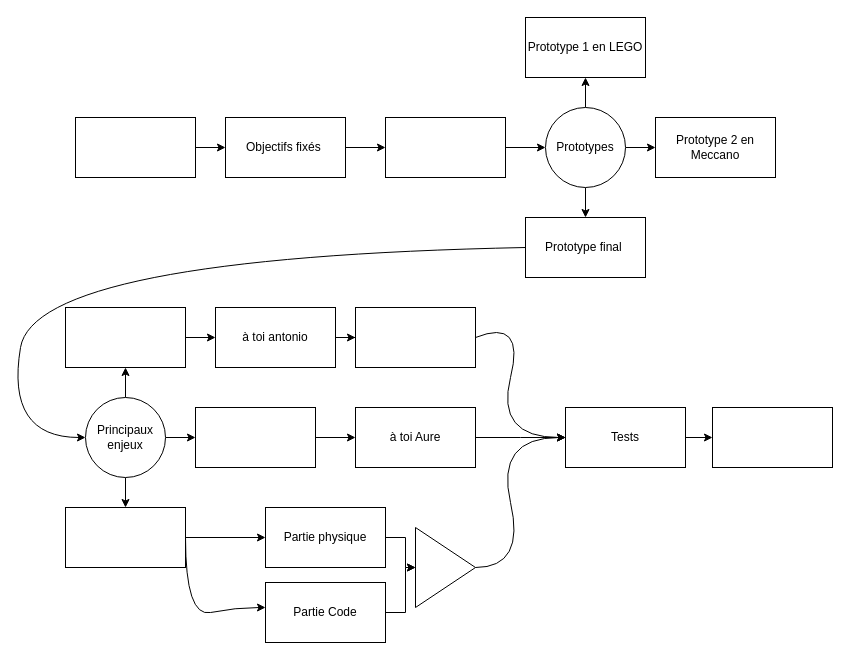
This 850x660 diagram has some shape labels left out. Here are the shapes that lost their labels. From the top down, the centre of each, then its label:
pixel 135 147: Cadre Contextualisation
pixel 445 147: Solutions retenues
pixel 125 337: Asservissement
pixel 255 437: Capteurs
pixel 772 437: Bilan
pixel 125 537: Suivi par caméra
